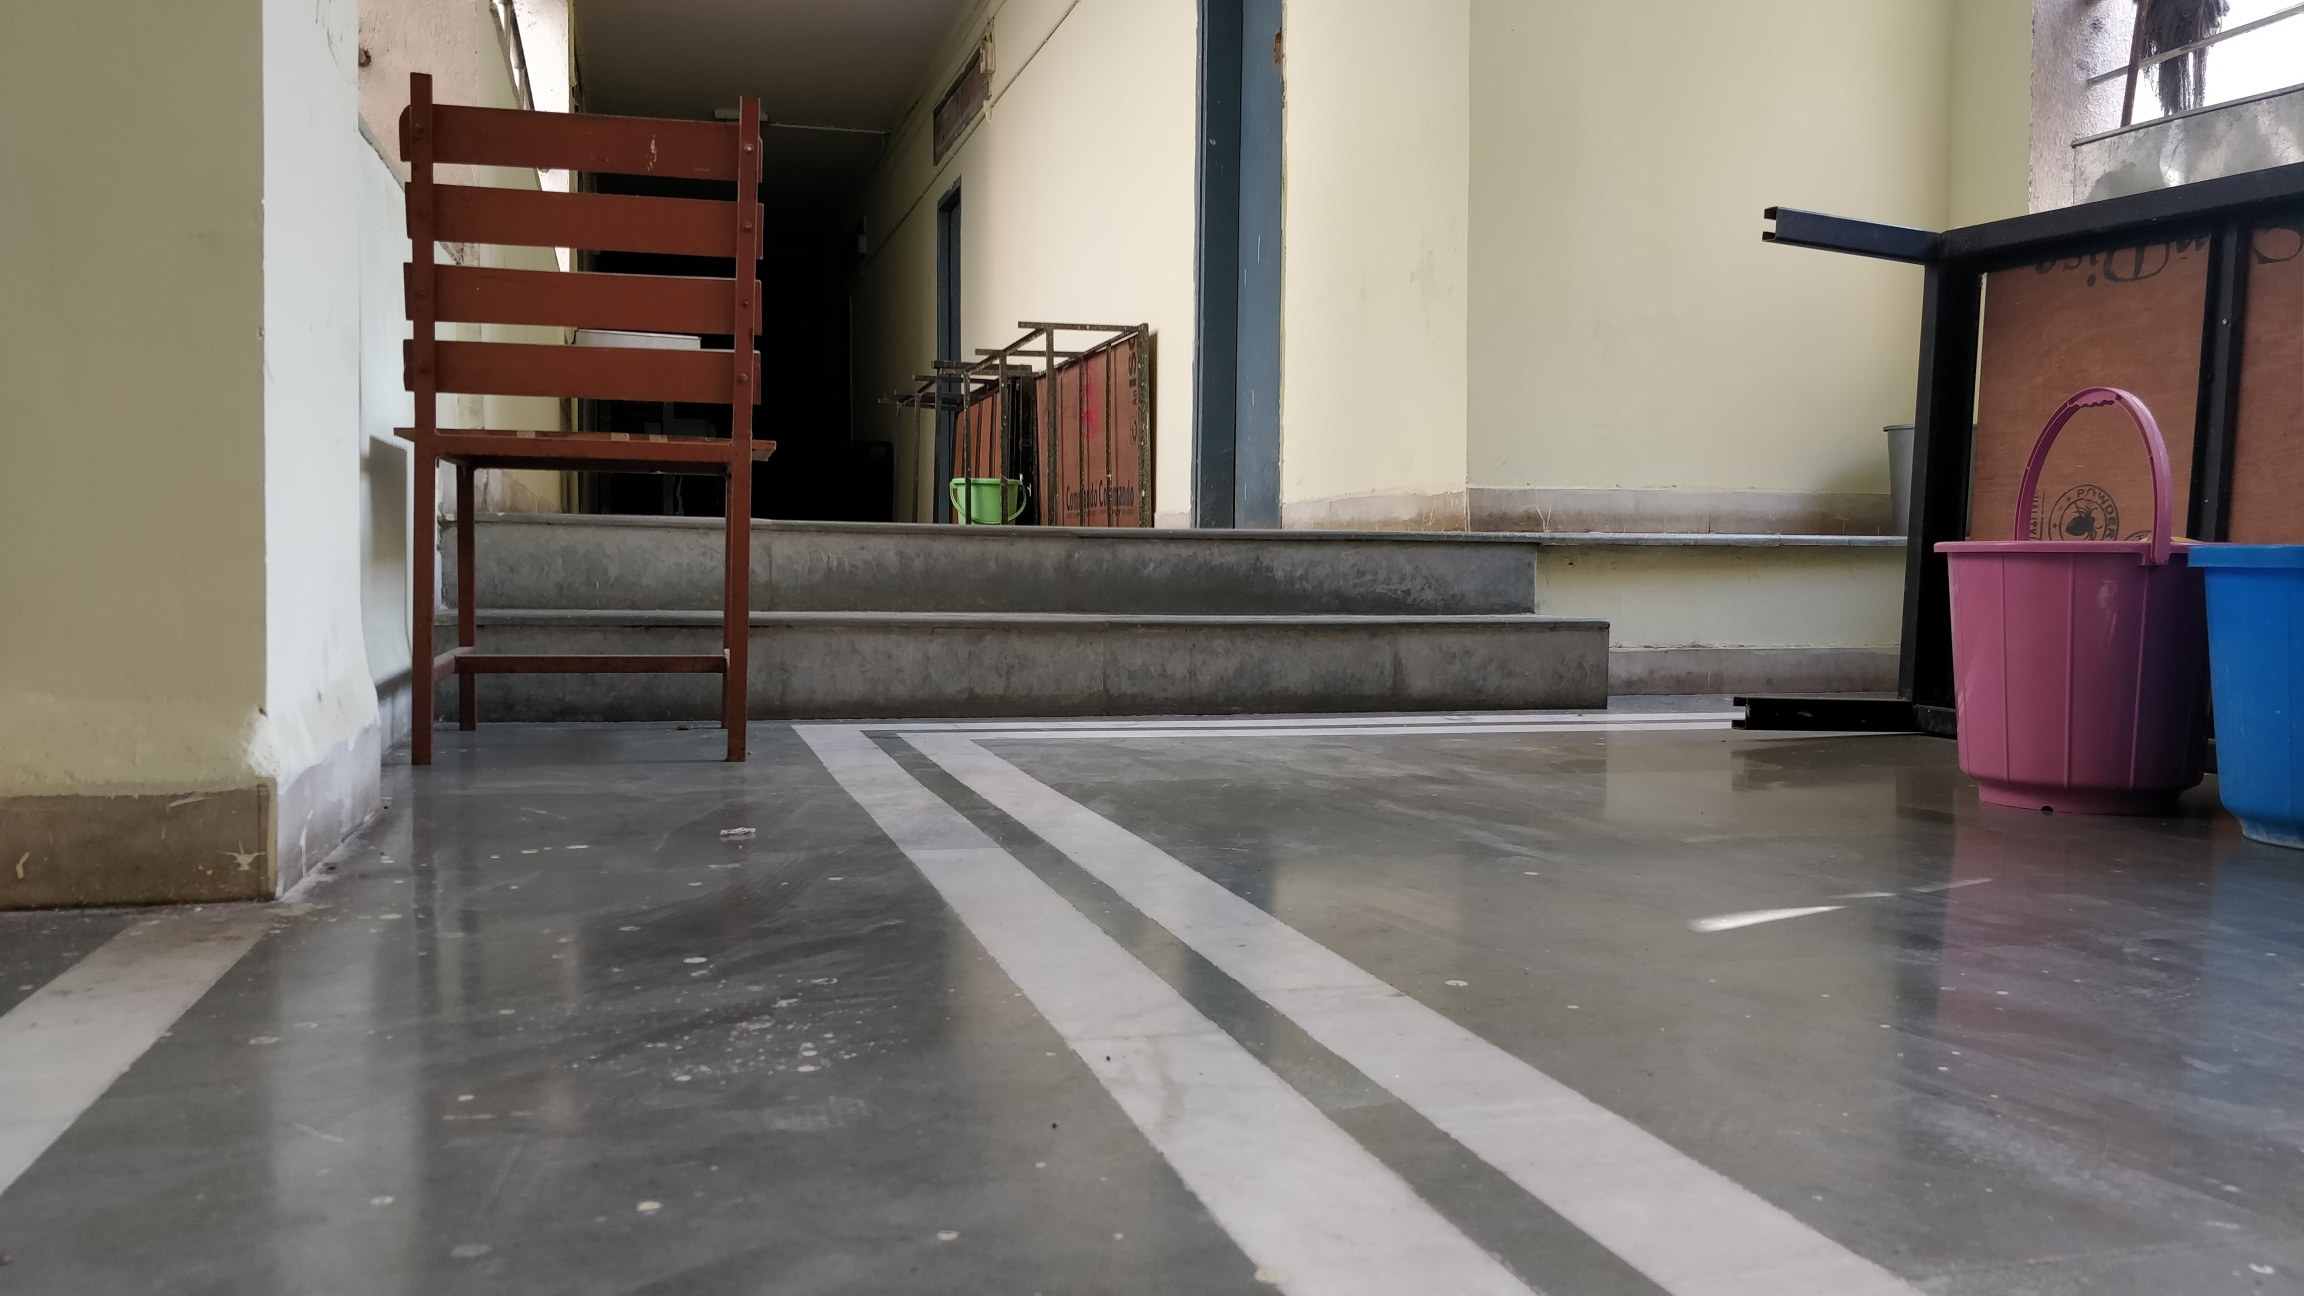stairs_up: (748, 519, 1631, 712)
